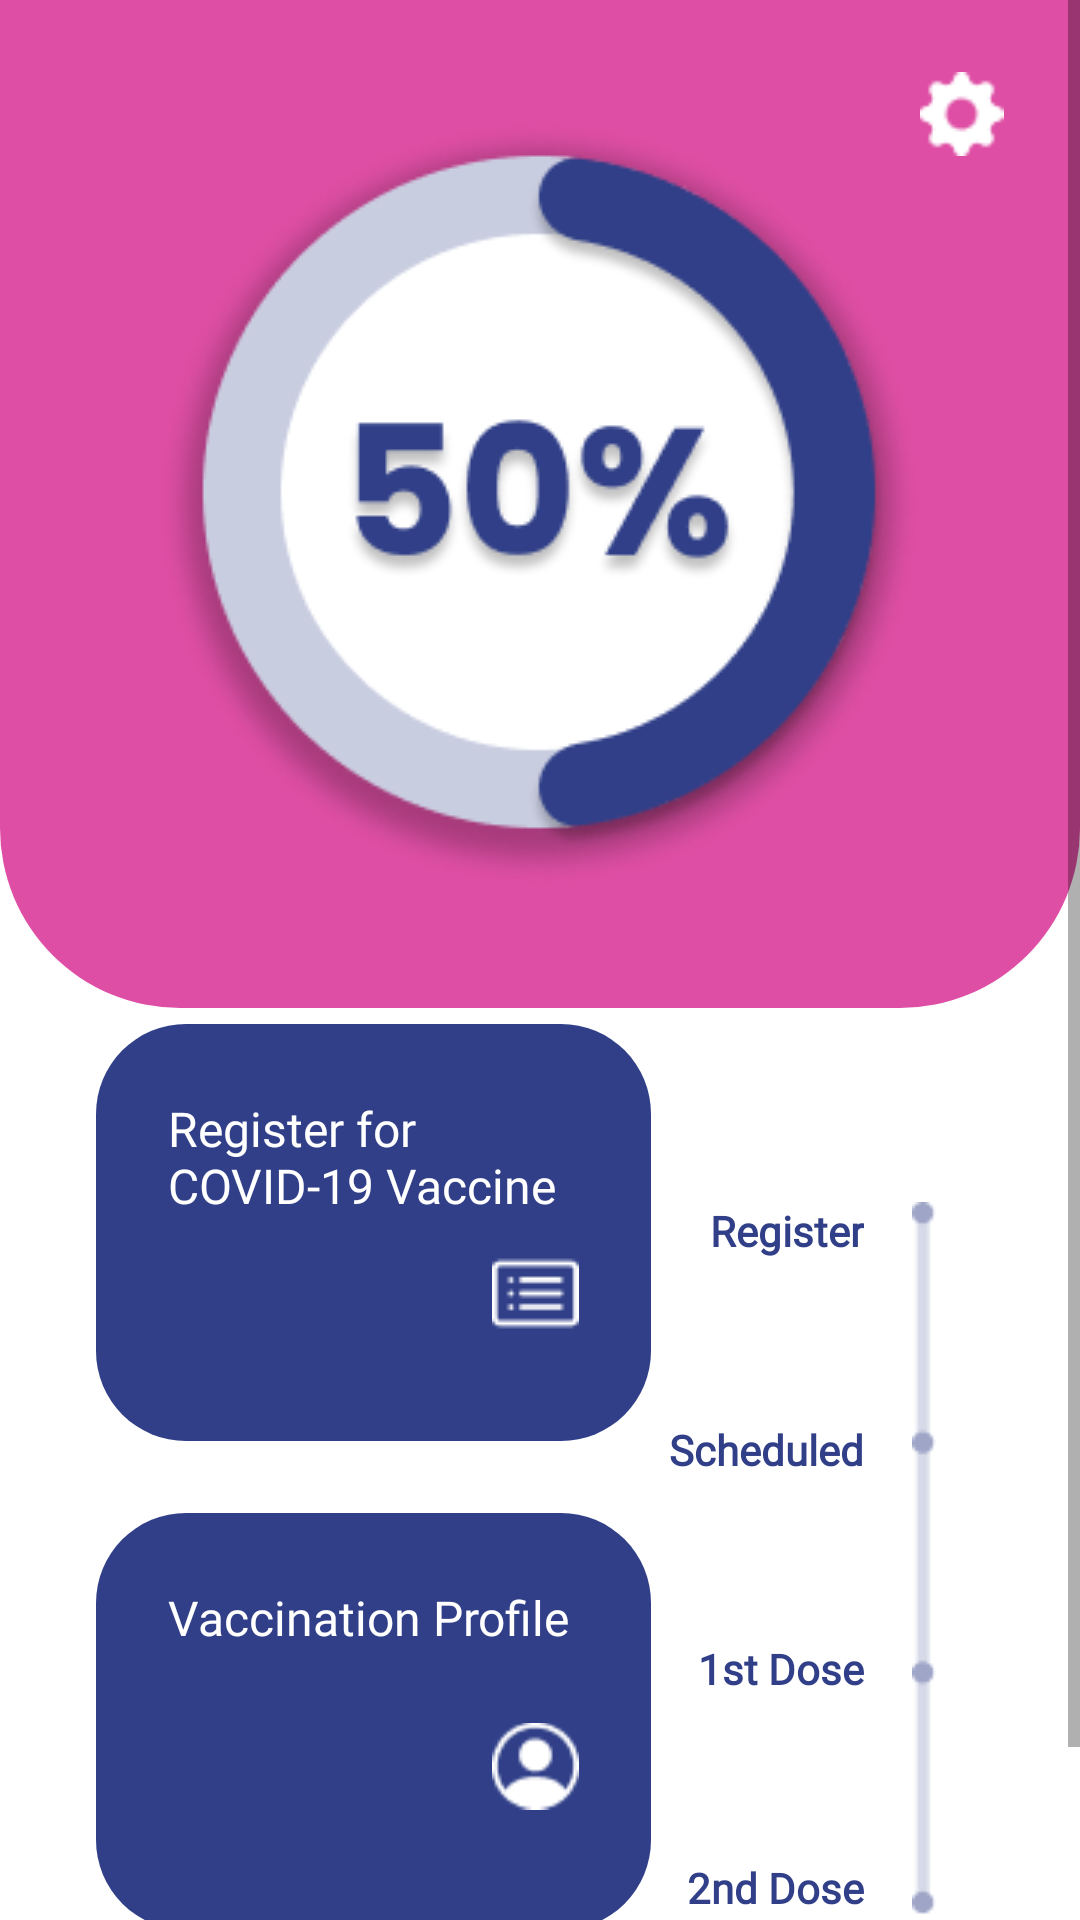

Where to tap for icons on this 1080 x 1920 app screen, as (x,y):
settings: (962,114)
vaxprof: (535,1766)
